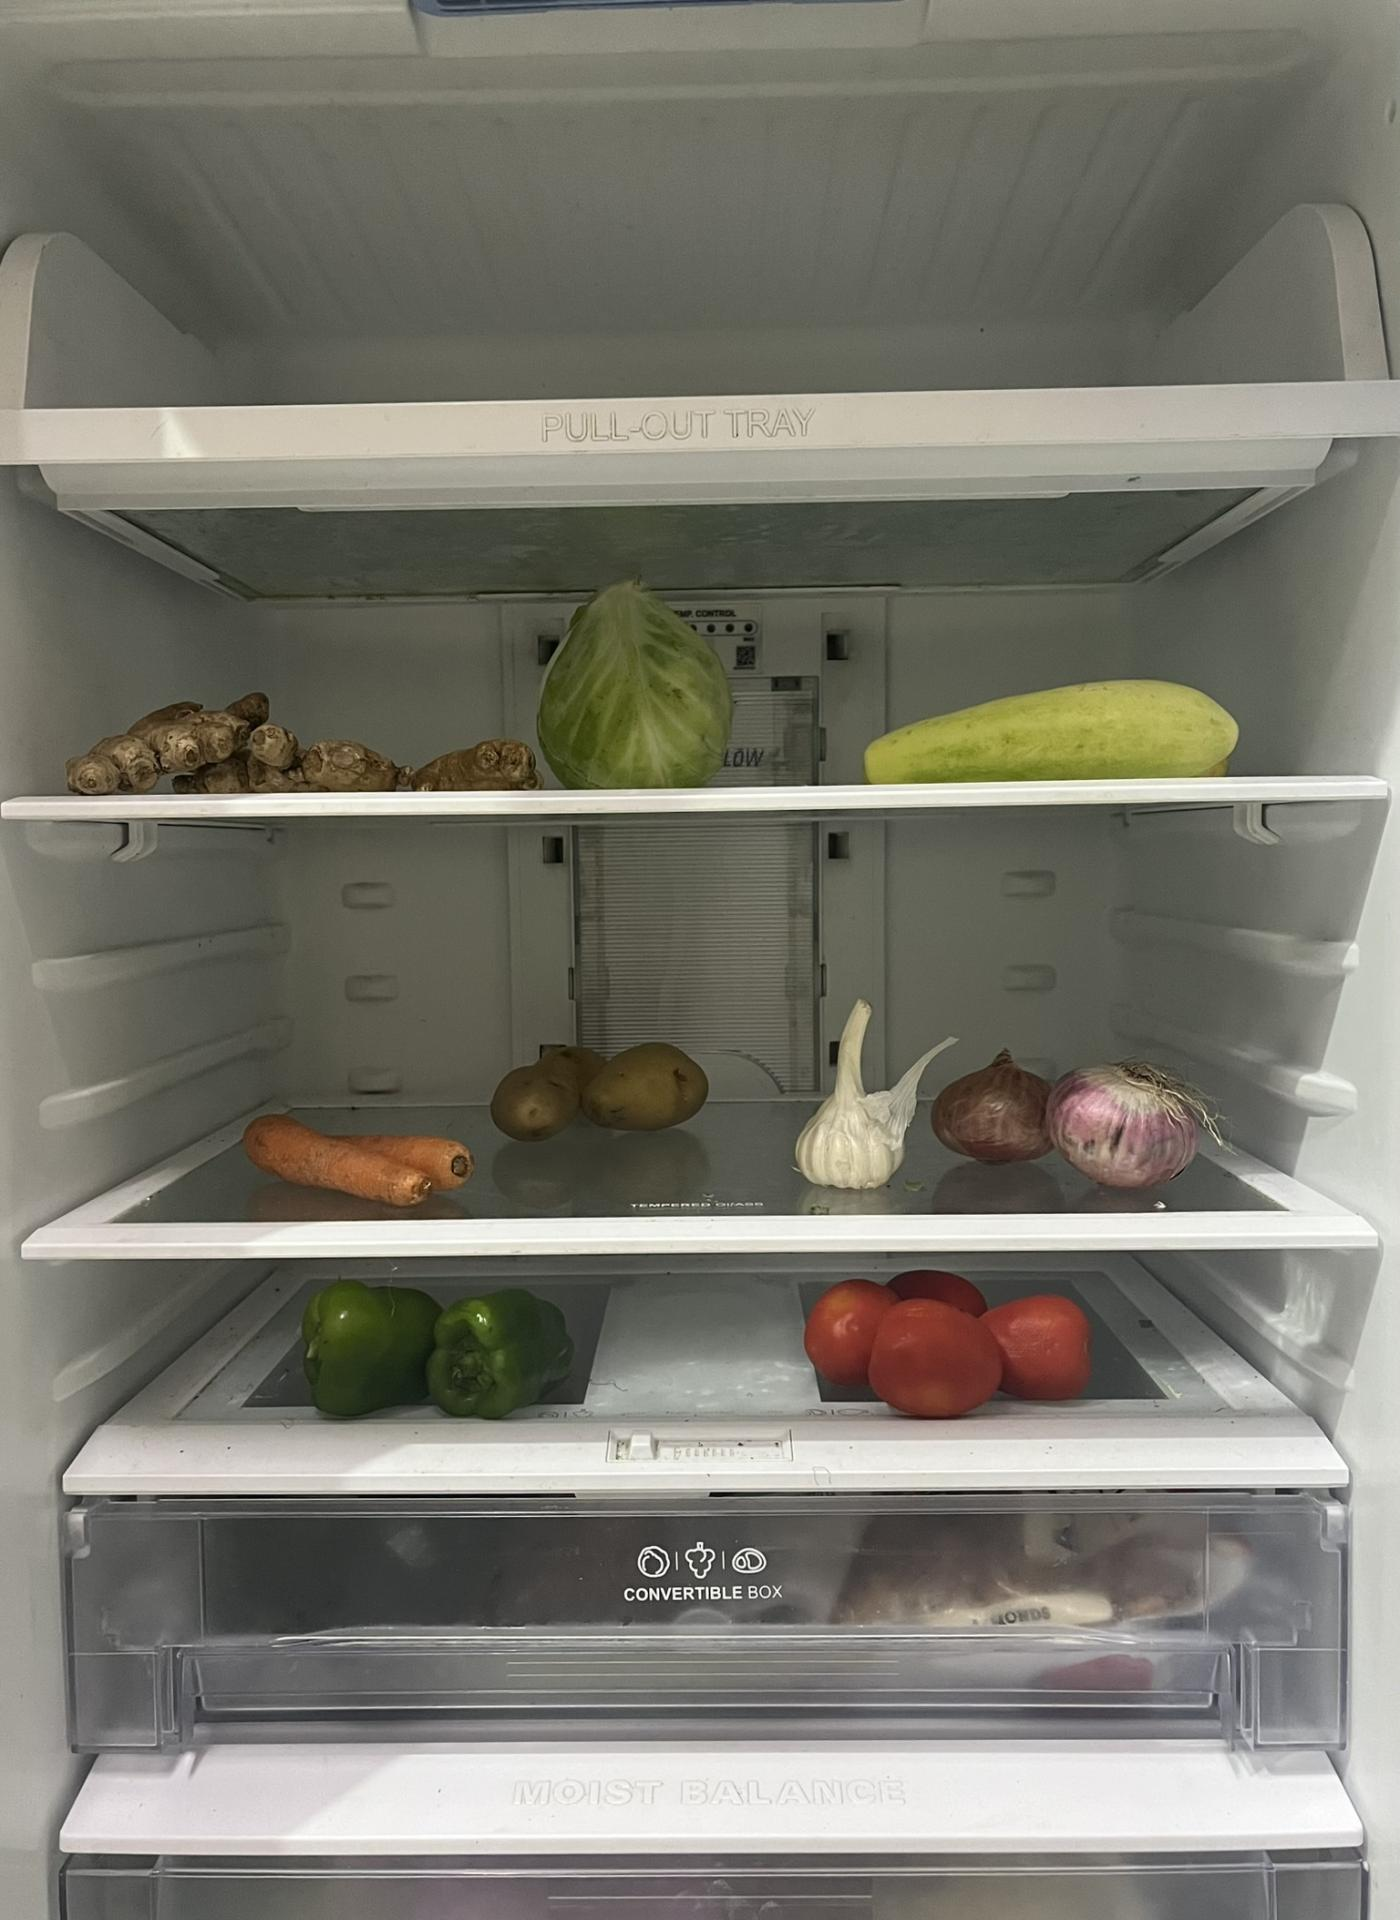cabbage: (553, 574, 741, 787)
capsicum: (298, 1267, 577, 1412)
carrots: (252, 1103, 489, 1206)
cucumber: (877, 677, 1248, 781)
garlic: (799, 1005, 938, 1196)
ginger: (61, 677, 537, 781)
onion: (959, 1046, 1208, 1181)
potato: (485, 1033, 713, 1137)
tomato: (808, 1258, 1093, 1421)
